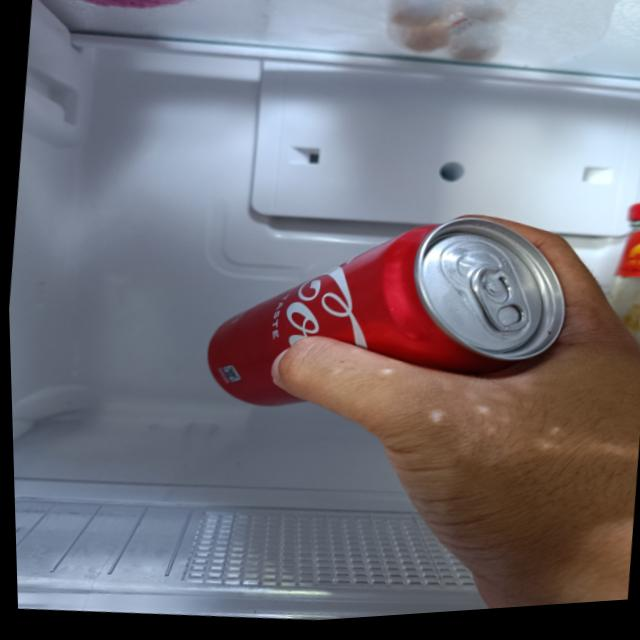coke: (195, 188, 579, 447)
